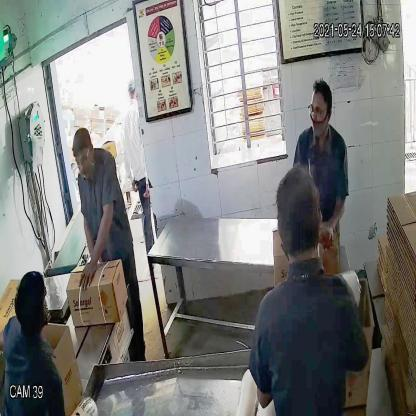goggles: (306, 99, 329, 121), (72, 146, 95, 168)
